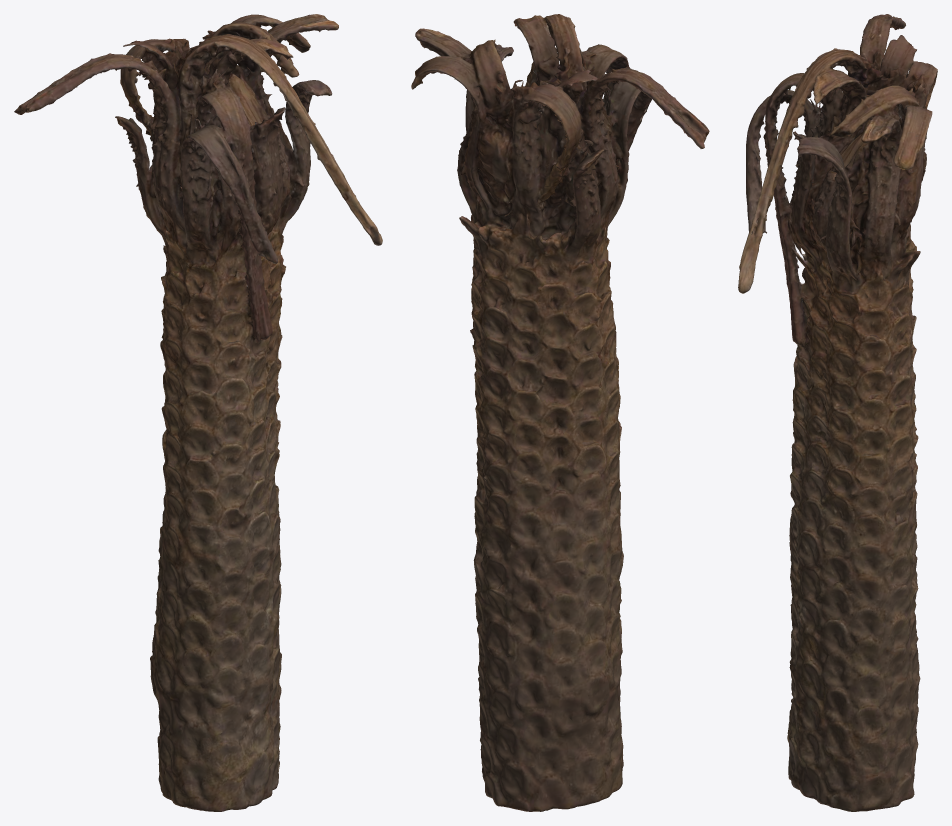
3 views of the same model, side by side, from view 1: azimuth 30°, elevation 25°; view 2: azimuth 150°, elevation 25°; view 3: azimuth 270°, elevation 25° (orthographic). The views are drawn at different scales.
Parts seen in each view (by area): view 1: Cyathea_furfuracea_Baker-unwrapped-webmulti; view 2: Cyathea_furfuracea_Baker-unwrapped-webmulti; view 3: Cyathea_furfuracea_Baker-unwrapped-webmulti.
Boxes of the visible parts, left/top/right/bottom form: Cyathea_furfuracea_Baker-unwrapped-webmulti: left=14, top=14, right=382, bottom=811; Cyathea_furfuracea_Baker-unwrapped-webmulti: left=411, top=14, right=709, bottom=811; Cyathea_furfuracea_Baker-unwrapped-webmulti: left=738, top=14, right=937, bottom=811.
Bounding box in the file's own units: 5621 × 13356 × 3292.
Materials: 1 (1 with a texture image).
